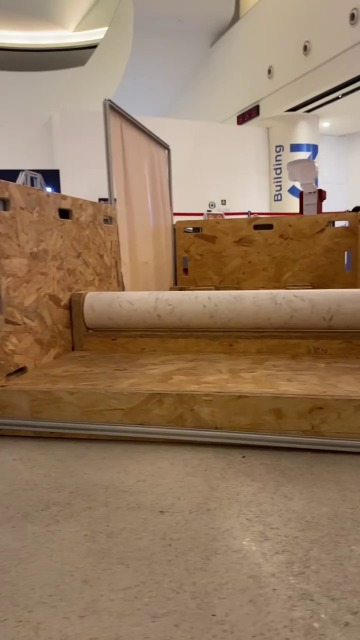curtain: (104, 96, 176, 294)
